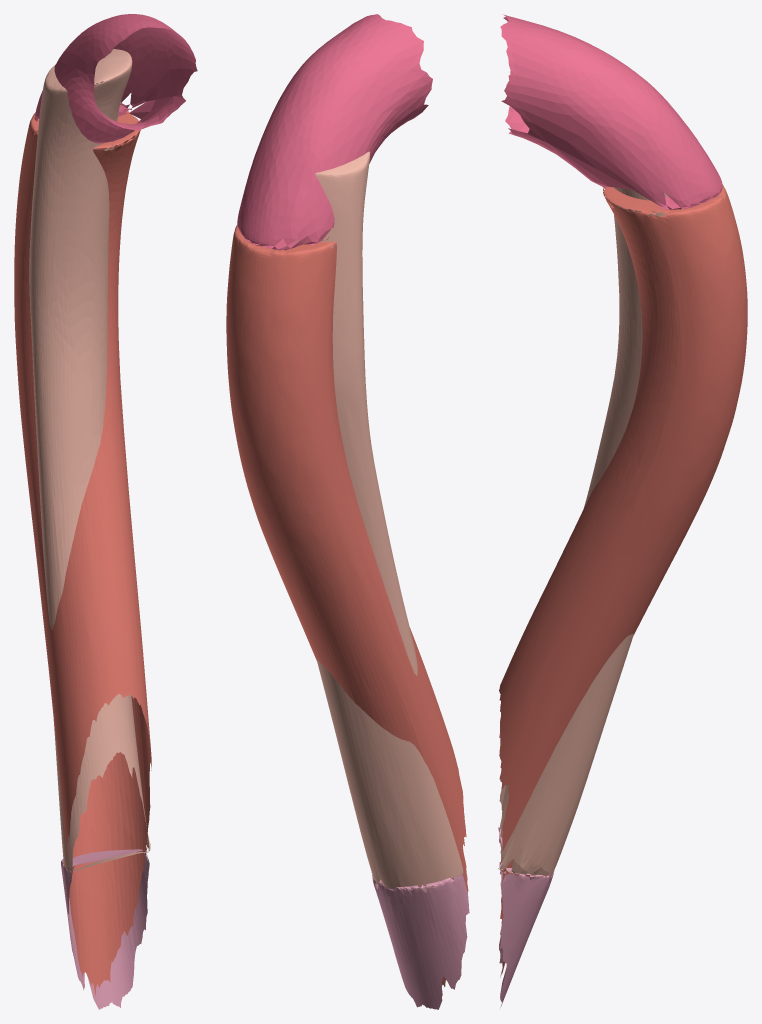
File: aorta_interno.glb
The picture shows the model from 3 angles, left to right: view 1: azimuth 30°, elevation 25°; view 2: azimuth 150°, elevation 25°; view 3: azimuth 270°, elevation 25°; orthographic projection. The views are drawn at different scales.
Parts seen in each view (by area): view 1: descending aorta, descending thoracic aorta, arch of aorta, abdominal aorta; view 2: descending aorta, descending thoracic aorta, arch of aorta, abdominal aorta; view 3: descending aorta, arch of aorta, descending thoracic aorta, abdominal aorta.
Boxes of the visible parts, box(x1,y1,x2,y2) form: descending aorta: box(14, 111, 151, 995); descending thoracic aorta: box(29, 49, 150, 871); arch of aorta: box(34, 14, 197, 143); abdominal aorta: box(61, 849, 149, 1009); descending aorta: box(226, 224, 468, 995); descending thoracic aorta: box(295, 151, 466, 892); arch of aorta: box(237, 14, 432, 250); abdominal aorta: box(371, 868, 469, 1009); descending aorta: box(499, 185, 747, 977); arch of aorta: box(500, 14, 722, 209); descending thoracic aorta: box(498, 187, 668, 878); abdominal aorta: box(498, 827, 554, 1007).
Bounding box in the file's own units: 33.43 × 216 × 48.78.
